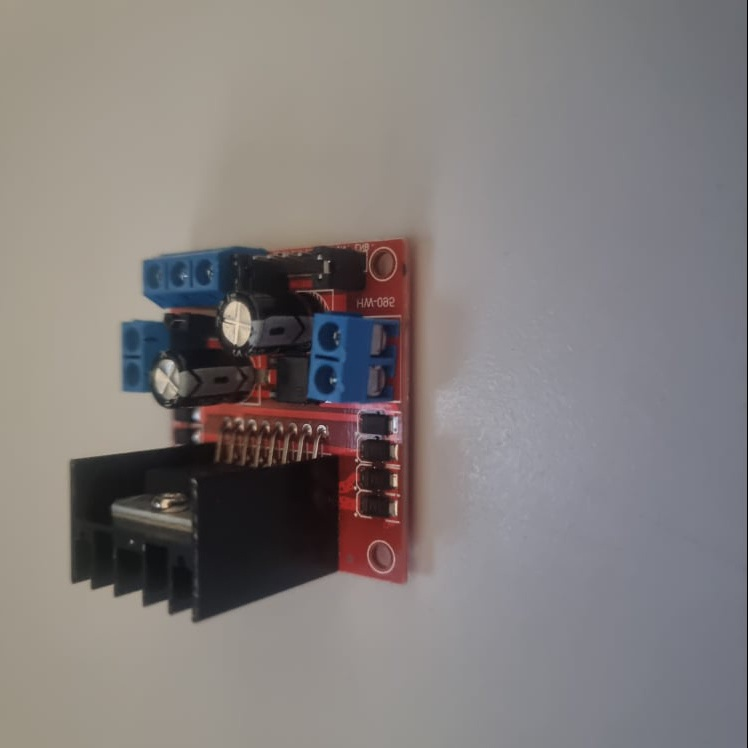MOTOR: (69, 241, 410, 623)
